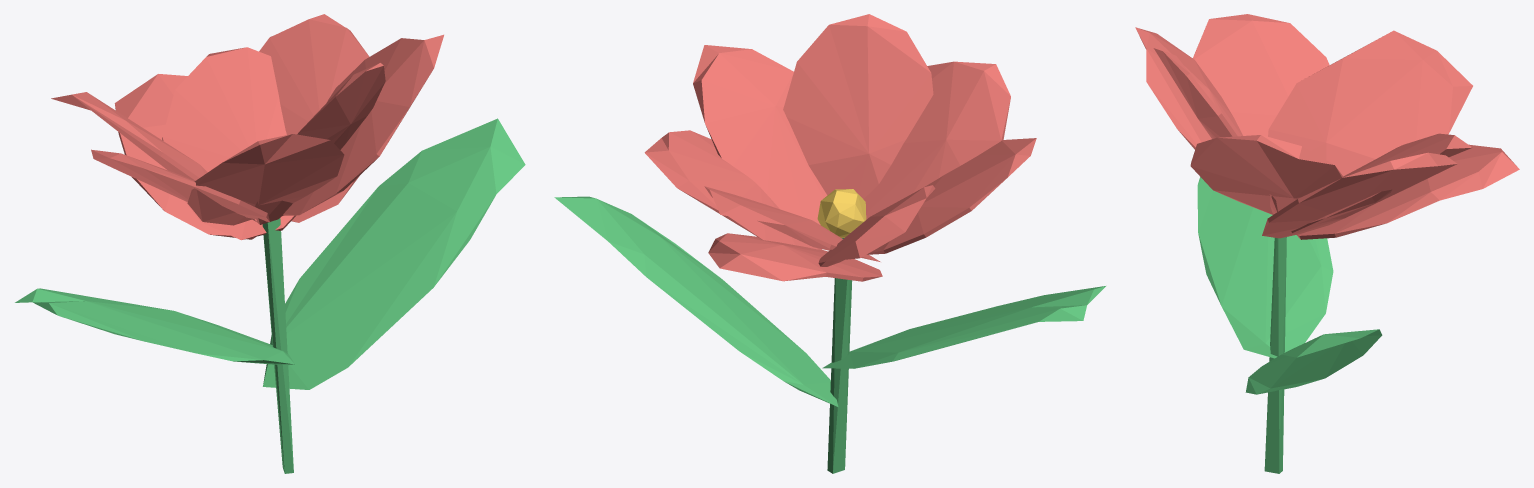
File: redflower_lod2.glb
3 renders of one model, left to right at view 1: azimuth 30°, elevation 25°; view 2: azimuth 150°, elevation 25°; view 3: azimuth 270°, elevation 25°, orthographic. The views are drawn at different scales.
Parts seen in each view (by area): view 1: group341342680, group1800673276; view 2: group341342680, group1800673276, group1492198814; view 3: group341342680, group1800673276.
Boxes of the visible parts, left/top/right/bottom form: group341342680: left=51, top=14, right=443, bottom=240; group1800673276: left=15, top=118, right=525, bottom=473; group341342680: left=644, top=14, right=1036, bottom=281; group1800673276: left=554, top=196, right=1105, bottom=473; group1492198814: left=817, top=189, right=866, bottom=237; group341342680: left=1135, top=14, right=1519, bottom=239; group1800673276: left=1197, top=177, right=1382, bottom=473.
Bounding box in the file's own units: 0.6437 × 0.5137 × 0.4164.
